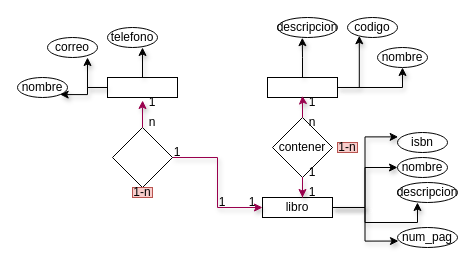
This 475x274 diagram has some shape labels left out. Each missing label, with the centre of its shape:
autor: the point at 142,87
categeria: the point at 302,87
escribe: the point at 142,157
